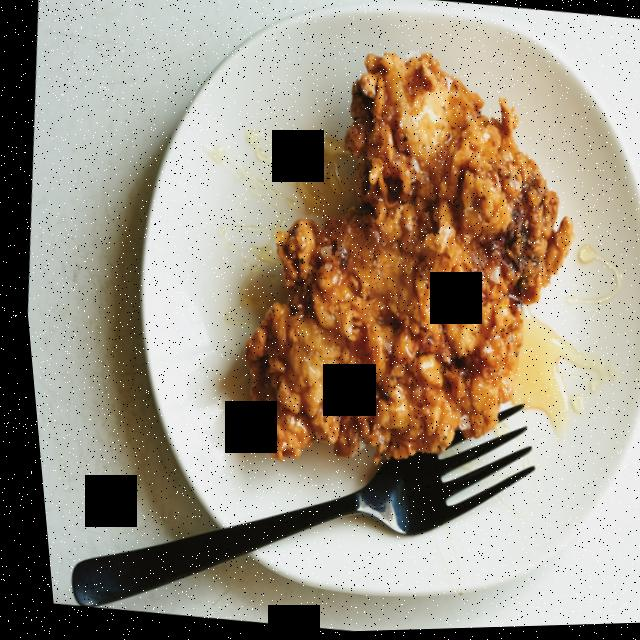Frango: (201, 18, 604, 495)
